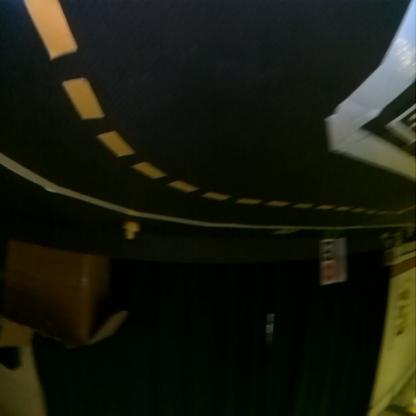Duckie: (123, 224, 139, 240)
